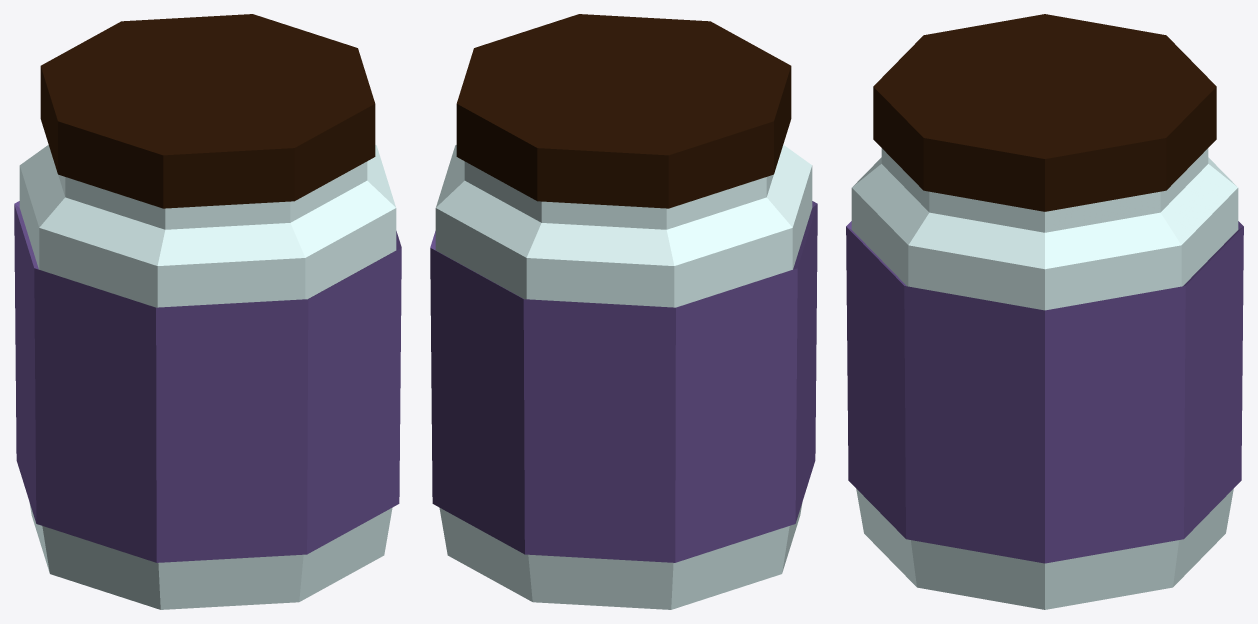
File: closed_jar.fbx
3 renders of one model, left to right at view 1: azimuth 30°, elevation 25°; view 2: azimuth 150°, elevation 25°; view 3: azimuth 270°, elevation 25°, orthographic.
Visible parts, largest first — view 1: Closed_Jar; view 2: Closed_Jar; view 3: Closed_Jar.
Boxes of the visible parts, bbox=[...] form: Closed_Jar: bbox=[14, 14, 401, 609]; Closed_Jar: bbox=[430, 14, 817, 609]; Closed_Jar: bbox=[846, 14, 1243, 609].
Size of the model in its own units: 2 by 2.48 by 2.
